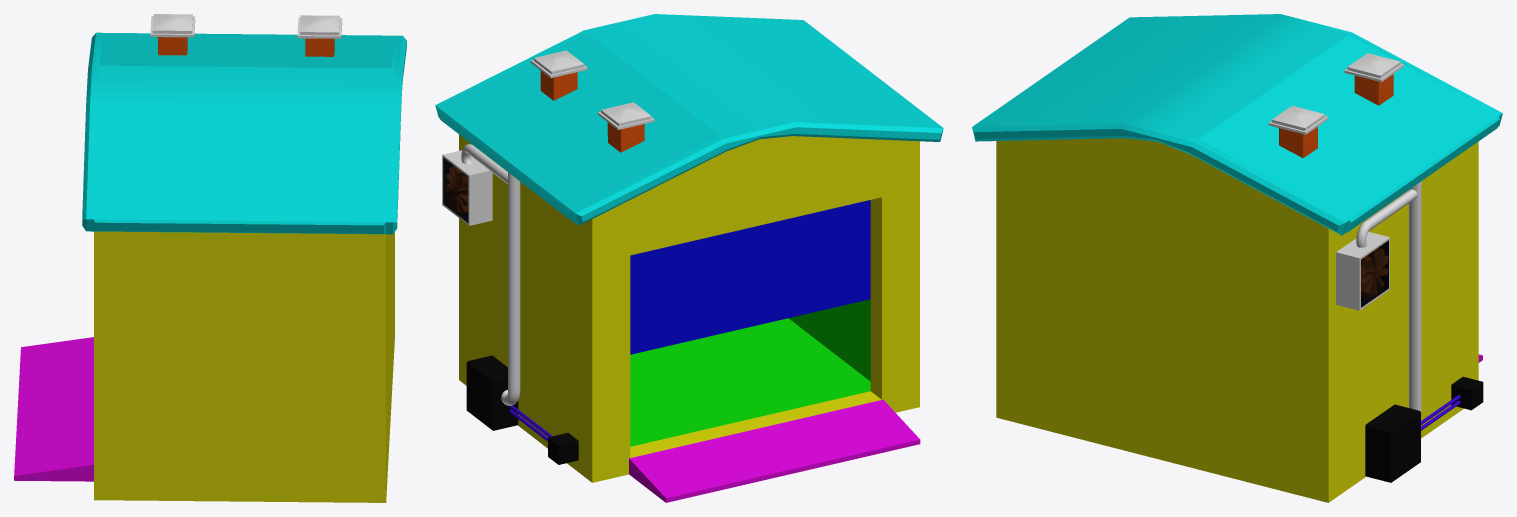
The model's file is GB_Storehouse.fbx.
3 renders of one model, left to right at view 1: azimuth 30°, elevation 25°; view 2: azimuth 150°, elevation 25°; view 3: azimuth 270°, elevation 25°, orthographic. The views are drawn at different scales.
Visible parts, largest first — view 1: Warehouse; view 2: Warehouse; view 3: Warehouse.
Part boxes in pixels (x1,y1,x2,y2): Warehouse: (14,14,406,502); Warehouse: (435,14,943,502); Warehouse: (972,14,1502,502).
Bounding box in the file's own units: 186 × 138 × 192.
